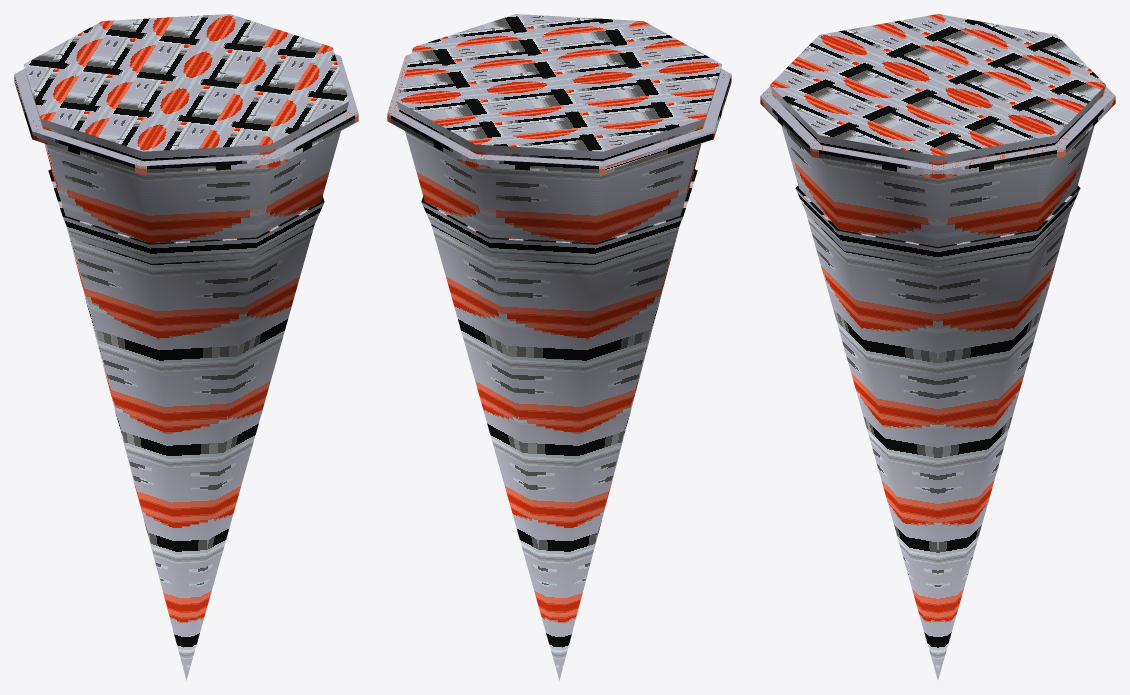
3 renders of one model, left to right at view 1: azimuth 30°, elevation 25°; view 2: azimuth 150°, elevation 25°; view 3: azimuth 270°, elevation 25°, orthographic.
Parts seen in each view (by area): view 1: 3607kg_18_ta0; view 2: 3607kg_18_ta0; view 3: 3607kg_18_ta0.
Boxes of the visible parts, x1,y1,x2,y2 form: 3607kg_18_ta0: (14, 14, 358, 680); 3607kg_18_ta0: (387, 14, 731, 680); 3607kg_18_ta0: (760, 14, 1115, 679).
Bounding box in the file's own units: 2 × 3.7 × 2.
1 material, 1 textured.
